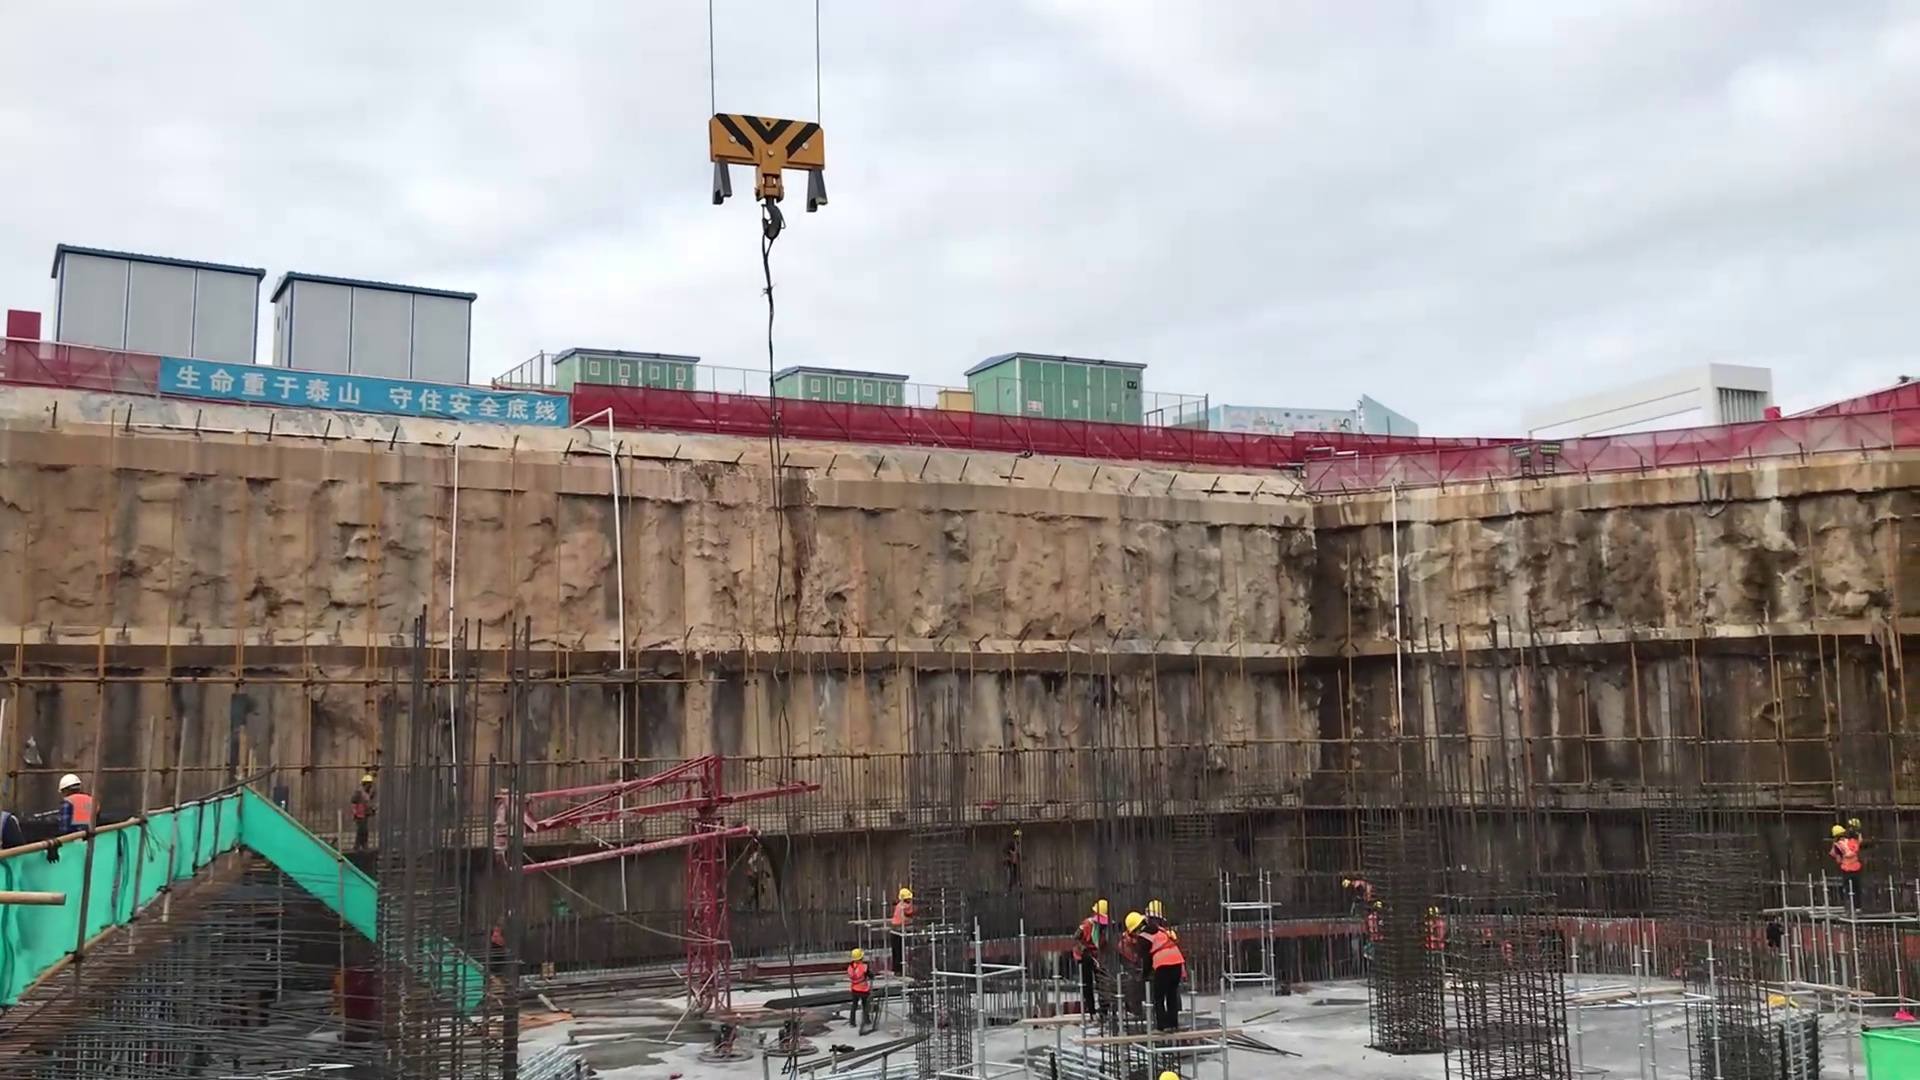ebox: (935, 386, 972, 413)
helmet: (1144, 899, 1168, 922), (57, 774, 83, 793), (1124, 911, 1145, 934), (1092, 900, 1108, 916), (851, 948, 865, 961), (1159, 1071, 1179, 1080), (1831, 825, 1846, 837), (898, 889, 913, 899), (1427, 905, 1439, 916), (359, 774, 372, 783), (1374, 901, 1384, 909), (1013, 830, 1022, 837), (1341, 879, 1350, 888)
hook: (695, 100, 838, 248)
person: (1124, 912, 1186, 1035), (1116, 898, 1171, 1019), (1073, 899, 1110, 1017), (1828, 824, 1864, 910), (888, 888, 917, 977), (348, 773, 380, 851), (55, 773, 98, 831), (847, 947, 876, 1028), (1422, 905, 1448, 986), (746, 843, 773, 912), (1005, 829, 1027, 894), (1340, 878, 1373, 917), (1365, 900, 1388, 952)
slogan: (159, 355, 571, 428)
vest: (1143, 928, 1184, 966), (1073, 918, 1103, 957), (1830, 840, 1861, 871), (63, 794, 91, 825), (848, 963, 869, 993), (1425, 921, 1446, 950), (352, 788, 371, 820), (891, 900, 914, 924), (1368, 914, 1383, 939), (1353, 880, 1372, 899)
